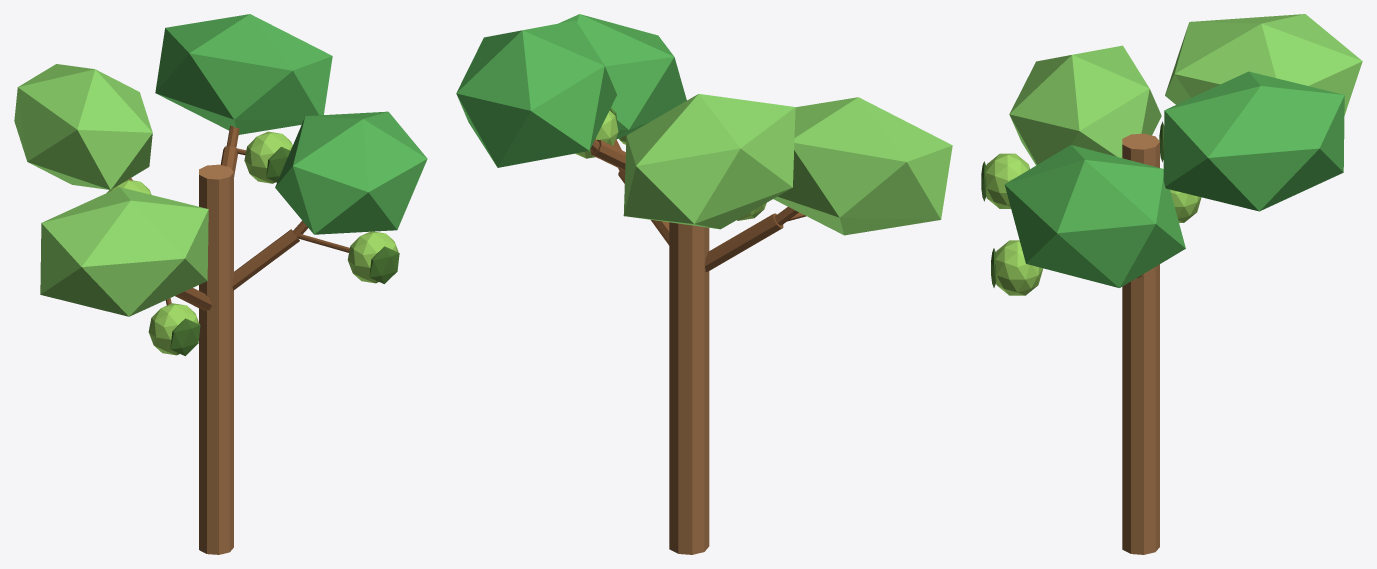
Rendered from Walnut.glb.
3 renders of one model, left to right at view 1: azimuth 30°, elevation 25°; view 2: azimuth 150°, elevation 25°; view 3: azimuth 270°, elevation 25°, orthographic. The views are drawn at different scales.
Parts seen in each view (by area): view 1: FTF_Plant_Walnut_Tree_Mature_Mesh; view 2: FTF_Plant_Walnut_Tree_Mature_Mesh; view 3: FTF_Plant_Walnut_Tree_Mature_Mesh.
Part boxes in pixels (x1,y1,x2,y2): FTF_Plant_Walnut_Tree_Mature_Mesh: (14,14,427,554); FTF_Plant_Walnut_Tree_Mature_Mesh: (456,14,952,554); FTF_Plant_Walnut_Tree_Mature_Mesh: (981,14,1362,554).
Bounding box in the file's own units: 2.94 × 3.46 × 2.35.
